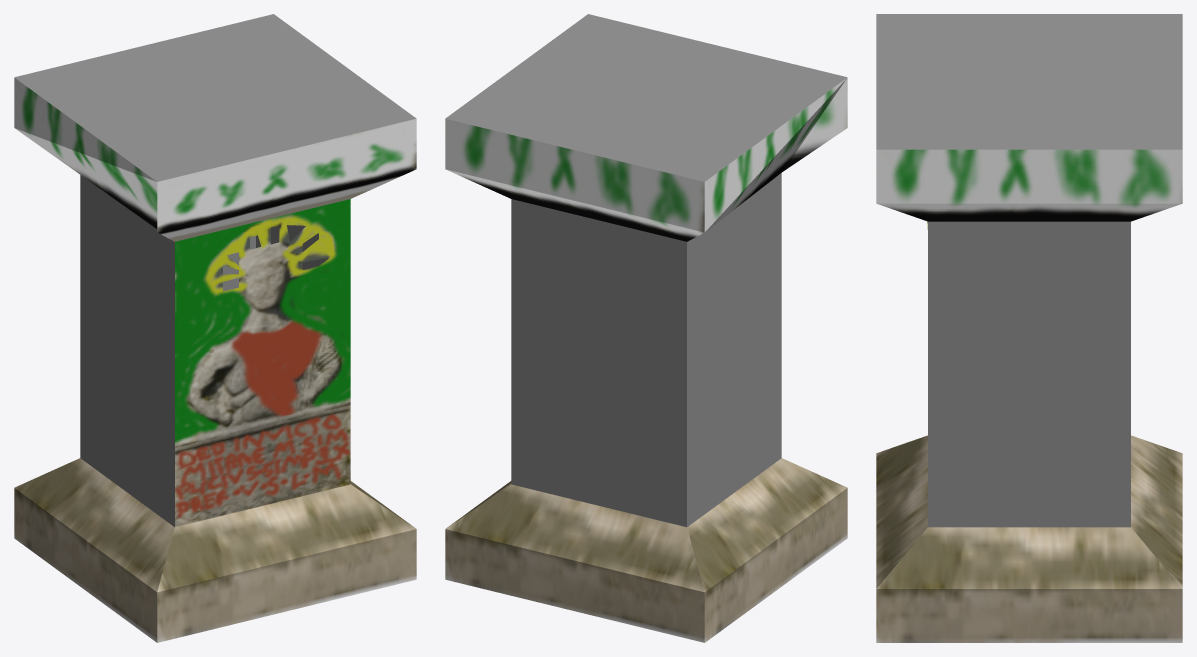
The model's file is altar1.FBX.
3 renders of one model, left to right at view 1: azimuth 30°, elevation 25°; view 2: azimuth 150°, elevation 25°; view 3: azimuth 270°, elevation 25°, orthographic. The views are drawn at different scales.
Parts seen in each view (by area): view 1: Box017; view 2: Box017; view 3: Box017.
Part boxes in pixels (<box>): Box017: <box>14,14,416,642</box>; Box017: <box>445,14,847,642</box>; Box017: <box>876,14,1182,642</box>.
Bounding box in the file's own units: 1.19 × 2.03 × 1.14.
